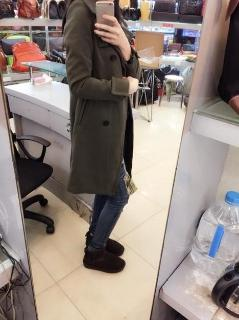long sleeve outwear: (64, 0, 141, 196)
trousers: (83, 108, 130, 251)
